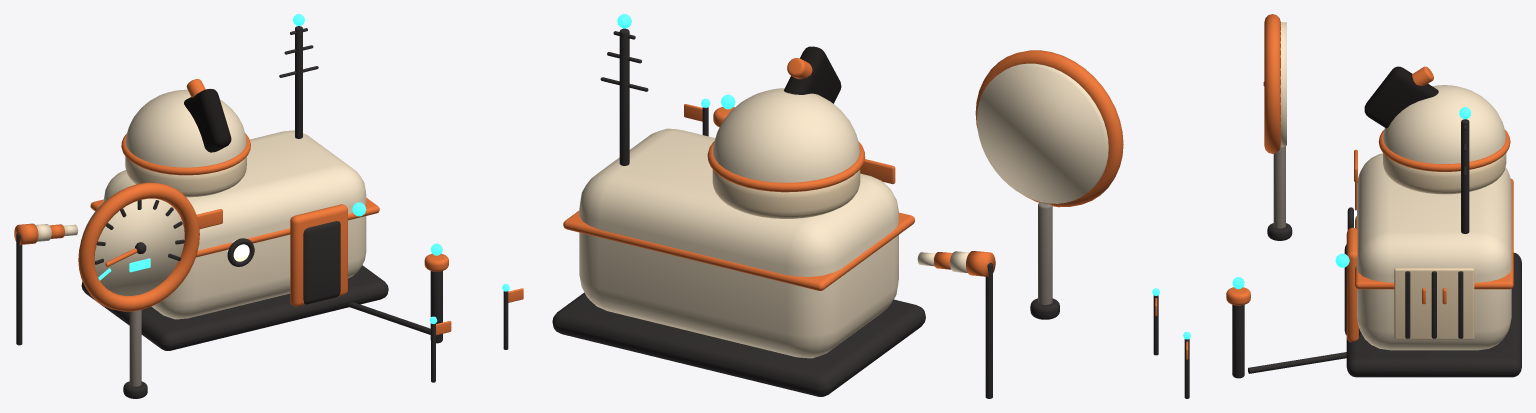
Rendered from geolocator-3.glb.
The picture shows the model from 3 angles, left to right: view 1: azimuth 30°, elevation 25°; view 2: azimuth 150°, elevation 25°; view 3: azimuth 270°, elevation 25°; orthographic projection. The views are drawn at different scales.
Visible parts, largest first — view 1: Cube.001, Cube, Cylinder.006, Sphere.001, Torus.002, Cube.011, Cube.010, Cylinder.001, Cube.012, Torus.001, Cylinder.005, Cylinder.003 (+4 smaller); view 2: Cube.001, Cylinder.006, Cube, Sphere.001, Torus.002, Cylinder.001, Cube.002, Torus.001, Cube.012, Cylinder.005, Cylinder.003, Cylinder.007 (+2 smaller); view 3: Cube.001, Sphere.001, Cube, Cube.003, Cylinder.001, Torus.002, Cube.012, Cube.002, Cube.010, Torus.001, Cylinder.005, Cylinder.003 (+8 smaller).
Boxes of the visible parts, x1,y1,x2,y2 form: Cube.001: (103,130,366,319); Cube: (81,265,388,350); Cylinder.006: (81,194,184,295); Sphere.001: (125,89,246,167); Torus.002: (78,182,199,311); Cube.011: (303,221,340,304); Cube.010: (290,204,347,306); Cylinder.001: (125,156,246,197); Cube.012: (184,89,231,152); Torus.001: (121,133,250,175); Cylinder.005: (129,310,141,386); Cylinder.003: (295,26,302,138); Cube.001: (579,128,898,358); Cylinder.006: (977,63,1108,203); Cube: (552,292,925,396); Sphere.001: (713,88,859,182); Torus.002: (975,50,1123,207); Cylinder.001: (712,169,860,218); Cube.002: (563,211,914,290); Torus.001: (707,141,865,192); Cube.012: (784,46,841,103); Cylinder.005: (1038,202,1052,304); Cylinder.003: (619,28,629,165); Cylinder.007: (985,262,992,398); Cube.001: (1357,153,1511,350); Sphere.001: (1383,85,1505,164); Cube: (1346,252,1521,377); Cube.003: (1394,268,1474,339); Cylinder.001: (1383,153,1506,194); Torus.002: (1264,14,1280,153); Cube.012: (1364,66,1438,128); Cube.002: (1355,178,1513,289); Cube.010: (1346,227,1358,342); Torus.001: (1378,130,1510,171); Cylinder.005: (1273,145,1285,228); Cylinder.003: (1461,119,1469,233).
Size of the model in its own units: 2.29 by 1.37 by 1.79.
